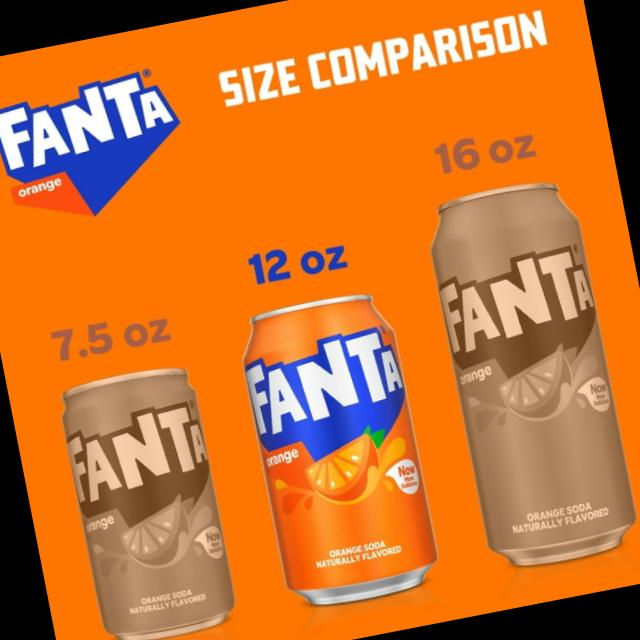fanta: (410, 165, 640, 579), (232, 280, 450, 618), (49, 361, 249, 640)
